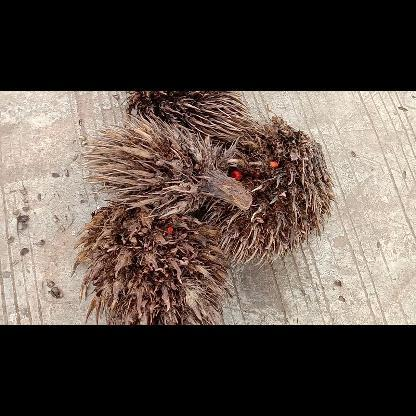Janjang kosong: (72, 206, 236, 324), (77, 114, 252, 220), (235, 118, 337, 270), (122, 92, 256, 140)
